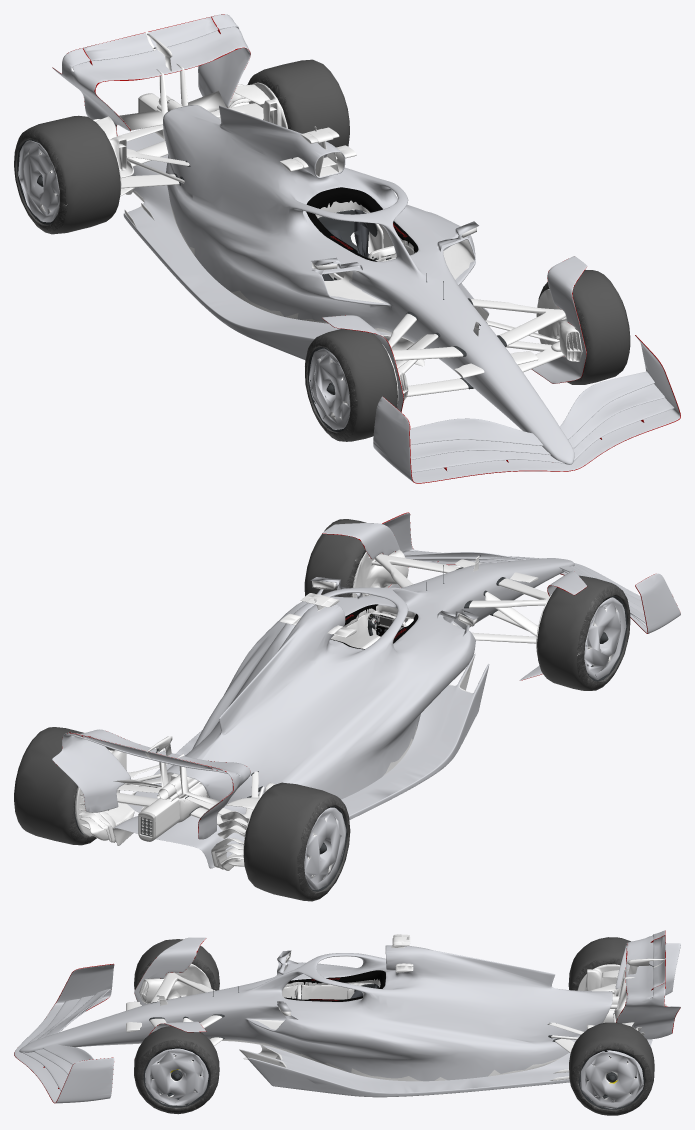
The model's file is fp04rb-showroom-desktop.glb.
3 renders of one model, top to bottom at view 1: azimuth 30°, elevation 25°; view 2: azimuth 150°, elevation 25°; view 3: azimuth 270°, elevation 25°, orthographic. The views are drawn at different scales.
Parts seen in each view (by area): view 1: body_object, front_wing_mixer, floor_rb_mixer, rear_wing_no_mod, wheel.Bk.R_object, wheel.Ft.R_object, wheel.Bk.L_object, wheel.Ft.L_object, front_inner_cover_fins.001, rr_wheel_cover_rear_new, fr_wheel_cover_front_new, rear_wing_no_mod._drs (+12 smaller); view 2: body_object, floor_rb_mixer, wheel.Bk.R_object, rear_wing_no_mod, wheel.Ft.R_object, wheel.Bk.L_object, front_wing_mixer, wheel.Ft.L_object, rr_wheel_cover_rear_new, fr_wheel_cover_front_new, rear_brake_duct_blades, front_inner_cover_fins.001 (+10 smaller); view 3: body_object, front_wing_mixer, floor_rb_mixer, rear_wing_no_mod, wheel.Bk.L_object, wheel.Ft.L_object, rl_wheel_cover_rear_new, fl_wheel_cover_front_new, wheel.Bk.R_object, front_inner_cover_fins, wheel.Ft.R_object, brakes_duct_front (+9 smaller).
Part boxes in pixels (bbox=[...]): body_object: bbox=[163, 105, 574, 464]; front_wing_mixer: bbox=[373, 335, 680, 483]; floor_rb_mixer: bbox=[123, 132, 489, 366]; rear_wing_no_mod: bbox=[52, 14, 250, 135]; wheel.Bk.R_object: bbox=[14, 115, 120, 234]; wheel.Ft.R_object: bbox=[305, 328, 397, 441]; wheel.Bk.L_object: bbox=[247, 59, 349, 147]; wheel.Ft.L_object: bbox=[538, 270, 630, 384]; front_inner_cover_fins.001: bbox=[531, 256, 587, 383]; rr_wheel_cover_rear_new: bbox=[18, 140, 59, 222]; fr_wheel_cover_front_new: bbox=[309, 348, 350, 429]; rear_wing_no_mod._drs: bbox=[83, 17, 218, 61]; body_object: bbox=[167, 558, 574, 814]; floor_rb_mixer: bbox=[113, 653, 489, 868]; wheel.Bk.R_object: bbox=[243, 782, 350, 901]; rear_wing_no_mod: bbox=[52, 729, 250, 839]; wheel.Ft.R_object: bbox=[537, 575, 630, 690]; wheel.Bk.L_object: bbox=[14, 727, 114, 845]; front_wing_mixer: bbox=[382, 512, 680, 633]; wheel.Ft.L_object: bbox=[304, 519, 366, 597]; rr_wheel_cover_rear_new: bbox=[304, 807, 346, 889]; fr_wheel_cover_front_new: bbox=[584, 597, 626, 679]; rear_brake_duct_blades: bbox=[211, 797, 260, 870]; front_inner_cover_fins.001: bbox=[322, 523, 400, 588]; body_object: bbox=[19, 945, 612, 1081]; front_wing_mixer: bbox=[14, 963, 114, 1103]; floor_rb_mixer: bbox=[239, 1039, 652, 1097]; rear_wing_no_mod: bbox=[615, 930, 680, 1039]; wheel.Bk.L_object: bbox=[569, 1022, 654, 1115]; wheel.Ft.L_object: bbox=[134, 1026, 219, 1114]; rl_wheel_cover_rear_new: bbox=[580, 1050, 643, 1108]; fl_wheel_cover_front_new: bbox=[145, 1048, 208, 1105]; wheel.Bk.R_object: bbox=[568, 937, 630, 990]; front_inner_cover_fins: bbox=[134, 937, 206, 1005]; wheel.Ft.R_object: bbox=[134, 939, 219, 990]; brakes_duct_front: bbox=[139, 963, 211, 1003].
Bounding box in the file's own units: 2.11 × 1.18 × 5.52.
47 materials, 12 textured.
